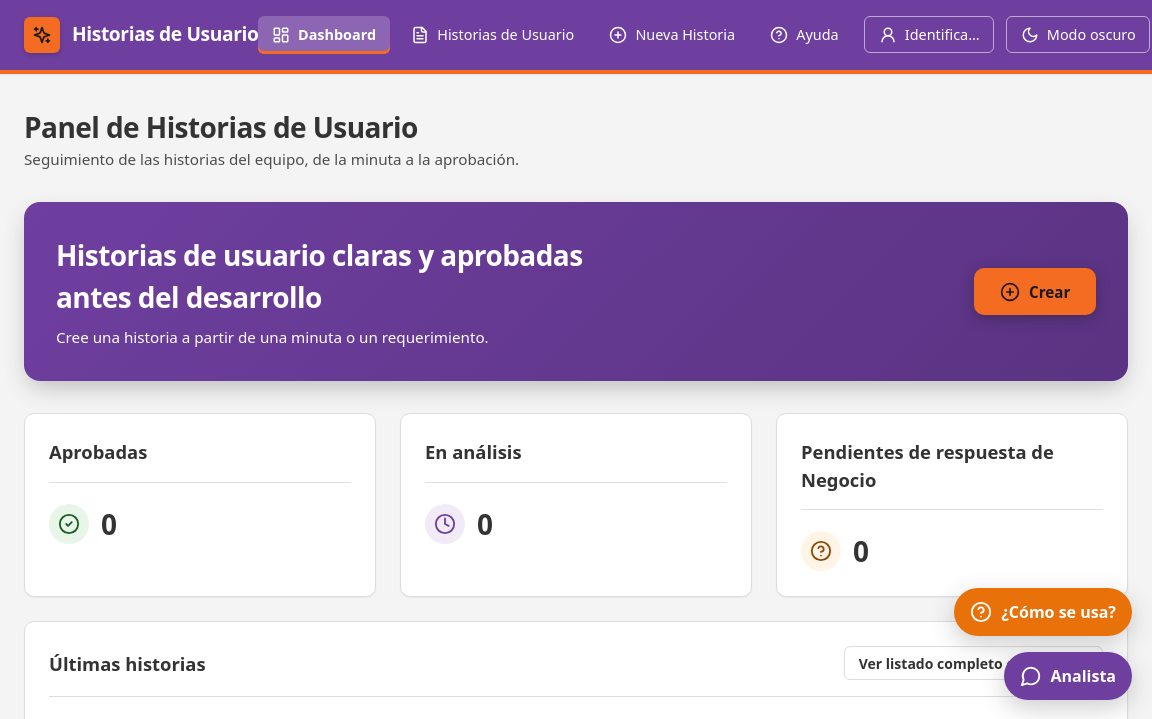
Test: AnalystChat shell › clears the composer immediately and retries a failed 429 message without adding a duplicate
The image size is (1152, 719).
Click the button with aria-label "abrir chat del agente analista". click: (1068,676)
box: [1004,652,1132,700]
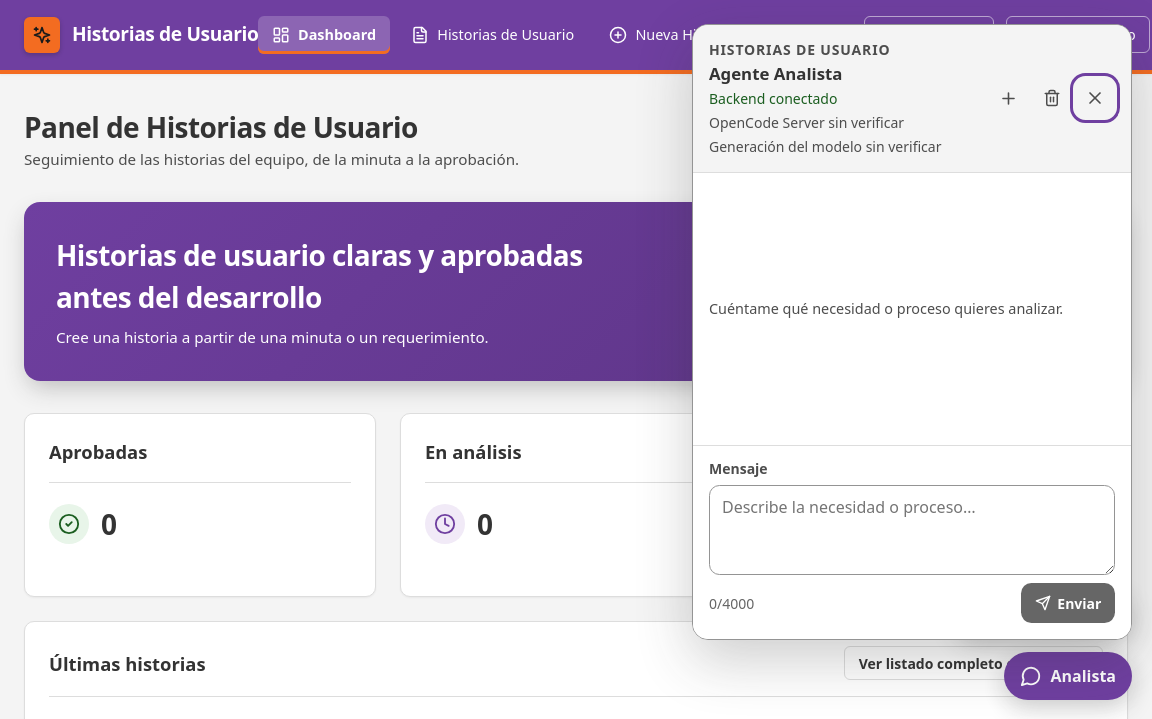
Expected: the text box named "escribe tu requerimiento" is enabled
Type "Solicitud para reintentar" into the text box named "escribe tu requerimiento". click: (912,530)
box: [709,485,1115,575]
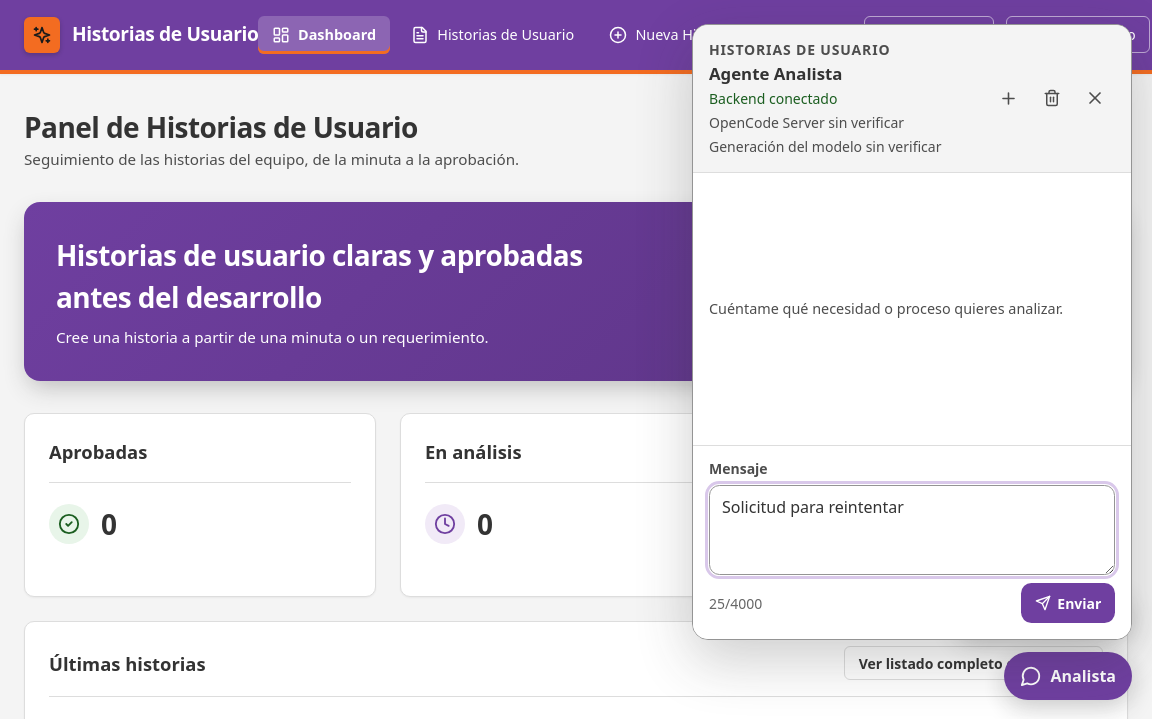
Click the button "Enviar". click: (1068,603)
box: [1021,583,1115,623]
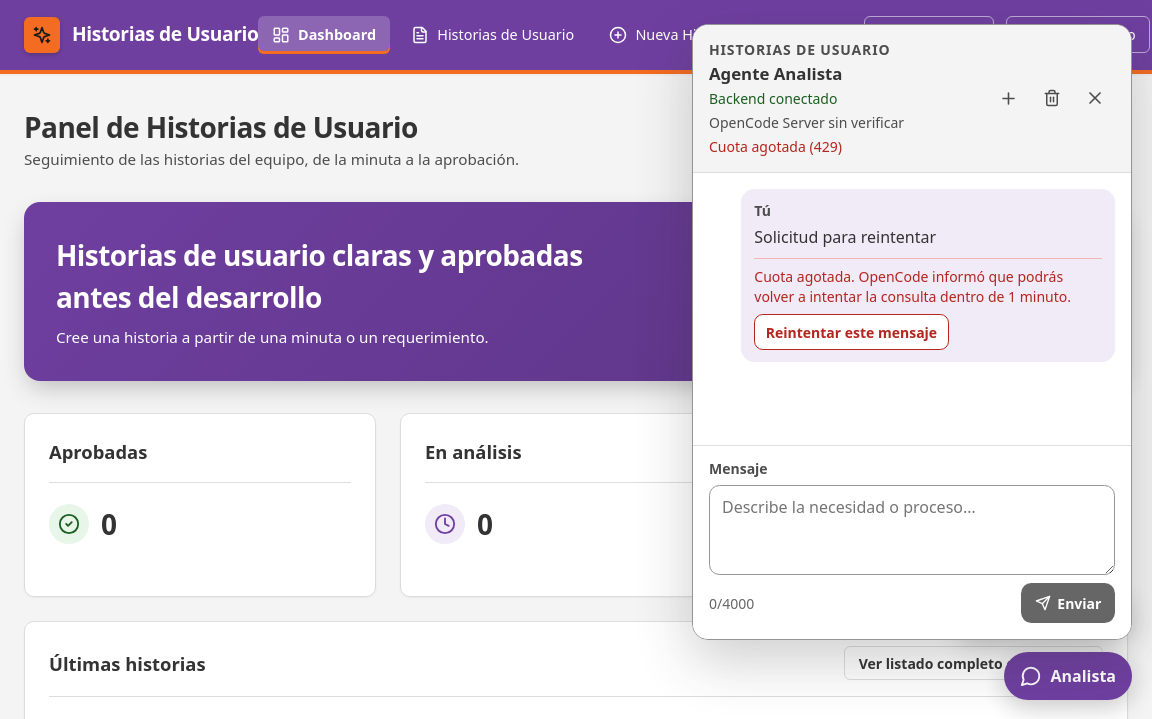
Expected: the text box named "escribe tu requerimiento" is empty, [709,485,1115,575]
Expected: the text "Cuota agotada (429)" is shown, [709,137,842,156]
Click the button "Reintentar este mensaje". click: (851,332)
box: [754,314,949,350]
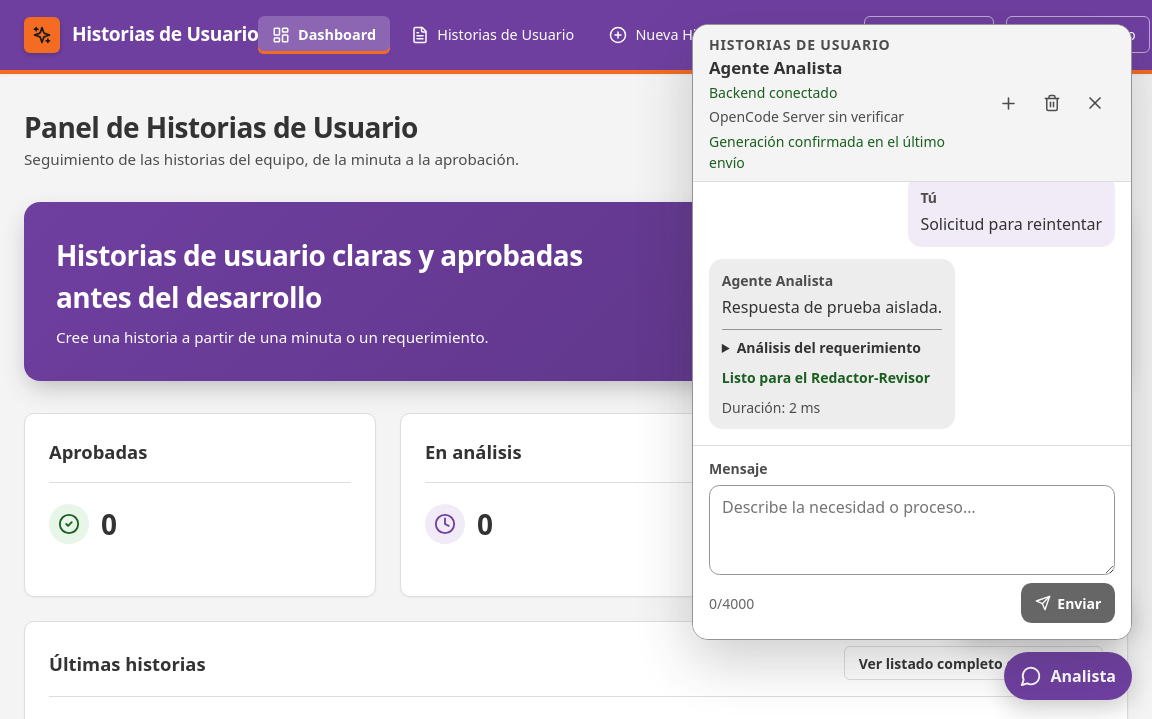
Expected: the text "Solicitud para reintentar" is shown, [920,212,1102,236]
Expected: the text "Respuesta de prueba aislada." is shown, [722,295,942,319]
Expected: the text "Solicitud para reintentar" is shown once, [920,212,1102,236]
